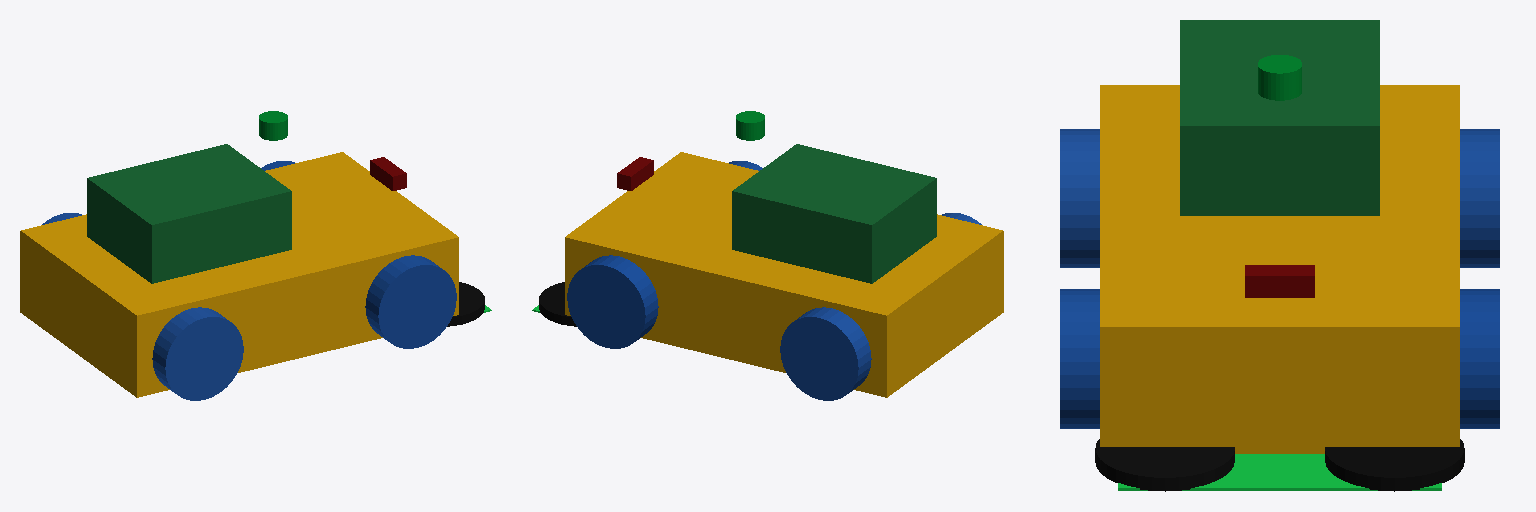
robot.urdf — sanitation_vehicle:
<?xml version="1.0" ?>
<!-- =================================================================================== -->
<!-- |    This document was autogenerated by xacro from /stage5br3/.runtime_ws/install/sanitation_vehicle_description/share/sanitation_vehicle_description/urdf/sanitation_vehicle.urdf.xacro | -->
<!-- |    EDITING THIS FILE BY HAND IS NOT RECOMMENDED                                 | -->
<!-- =================================================================================== -->
<robot name="sanitation_vehicle">
  <!-- Local primitive chassis avoids the upstream Gazebo-classic visual
       override colliding with URDF materials in Ogre2 / Gazebo Harmonic. -->
  <link name="base_footprint"/>
  <link name="base_link">
    <visual>
      <geometry>
        <box size="1.15 0.72 0.28"/>
      </geometry>
      <material name="sanitation_chassis_yellow">
        <color rgba="0.84 0.63 0.05 1.0"/>
      </material>
    </visual>
    <collision>
      <geometry>
        <box size="1.15 0.72 0.28"/>
      </geometry>
    </collision>
    <inertial>
      <mass value="80.0"/>
      <inertia ixx="3.978666666666667" ixy="0" ixz="0" iyy="9.339333333333332" iyz="0" izz="12.272666666666666"/>
    </inertial>
  </link>
  <joint name="base_to_footprint" type="fixed">
    <parent link="base_footprint"/>
    <child link="base_link"/>
    <origin rpy="0 0 0" xyz="0 0 0.16"/>
  </joint>
  <link name="front_left_wheel_link">
    <visual>
      <origin rpy="1.5707963267948966 0 0"/>
      <geometry>
        <cylinder length="0.08" radius="0.14"/>
      </geometry>
      <material name="front_left_wheel_material">
        <color rgba="0.12 0.32 0.62 1.0"/>
      </material>
    </visual>
    <collision>
      <origin rpy="1.5707963267948966 0 0"/>
      <geometry>
        <cylinder length="0.08" radius="0.14"/>
      </geometry>
    </collision>
    <inertial>
      <mass value="3.0"/>
      <inertia ixx="0.016300000000000002" ixy="0" ixz="0" iyy="0.029400000000000003" iyz="0" izz="0.016300000000000002"/>
    </inertial>
  </link>
  <joint name="front_left_wheel_joint" type="continuous">
    <axis xyz="0 1 0"/>
    <parent link="base_link"/>
    <child link="front_left_wheel_link"/>
    <origin rpy="0 0 0" xyz="0.38 0.4 -0.02"/>
  </joint>
  <gazebo reference="front_left_wheel_link">
    <mu1>1.0</mu1>
    <mu2>1.0</mu2>
  </gazebo>
  <link name="front_right_wheel_link">
    <visual>
      <origin rpy="1.5707963267948966 0 0"/>
      <geometry>
        <cylinder length="0.08" radius="0.14"/>
      </geometry>
      <material name="front_right_wheel_material">
        <color rgba="0.13 0.33 0.63 1.0"/>
      </material>
    </visual>
    <collision>
      <origin rpy="1.5707963267948966 0 0"/>
      <geometry>
        <cylinder length="0.08" radius="0.14"/>
      </geometry>
    </collision>
    <inertial>
      <mass value="3.0"/>
      <inertia ixx="0.016300000000000002" ixy="0" ixz="0" iyy="0.029400000000000003" iyz="0" izz="0.016300000000000002"/>
    </inertial>
  </link>
  <joint name="front_right_wheel_joint" type="continuous">
    <axis xyz="0 1 0"/>
    <parent link="base_link"/>
    <child link="front_right_wheel_link"/>
    <origin rpy="0 0 0" xyz="0.38 -0.4 -0.02"/>
  </joint>
  <gazebo reference="front_right_wheel_link">
    <mu1>1.0</mu1>
    <mu2>1.0</mu2>
  </gazebo>
  <link name="rear_left_wheel_link">
    <visual>
      <origin rpy="1.5707963267948966 0 0"/>
      <geometry>
        <cylinder length="0.08" radius="0.14"/>
      </geometry>
      <material name="rear_left_wheel_material">
        <color rgba="0.14 0.34 0.64 1.0"/>
      </material>
    </visual>
    <collision>
      <origin rpy="1.5707963267948966 0 0"/>
      <geometry>
        <cylinder length="0.08" radius="0.14"/>
      </geometry>
    </collision>
    <inertial>
      <mass value="3.0"/>
      <inertia ixx="0.016300000000000002" ixy="0" ixz="0" iyy="0.029400000000000003" iyz="0" izz="0.016300000000000002"/>
    </inertial>
  </link>
  <joint name="rear_left_wheel_joint" type="continuous">
    <axis xyz="0 1 0"/>
    <parent link="base_link"/>
    <child link="rear_left_wheel_link"/>
    <origin rpy="0 0 0" xyz="-0.38 0.4 -0.02"/>
  </joint>
  <gazebo reference="rear_left_wheel_link">
    <mu1>1.0</mu1>
    <mu2>1.0</mu2>
  </gazebo>
  <link name="rear_right_wheel_link">
    <visual>
      <origin rpy="1.5707963267948966 0 0"/>
      <geometry>
        <cylinder length="0.08" radius="0.14"/>
      </geometry>
      <material name="rear_right_wheel_material">
        <color rgba="0.15 0.35 0.65 1.0"/>
      </material>
    </visual>
    <collision>
      <origin rpy="1.5707963267948966 0 0"/>
      <geometry>
        <cylinder length="0.08" radius="0.14"/>
      </geometry>
    </collision>
    <inertial>
      <mass value="3.0"/>
      <inertia ixx="0.016300000000000002" ixy="0" ixz="0" iyy="0.029400000000000003" iyz="0" izz="0.016300000000000002"/>
    </inertial>
  </link>
  <joint name="rear_right_wheel_joint" type="continuous">
    <axis xyz="0 1 0"/>
    <parent link="base_link"/>
    <child link="rear_right_wheel_link"/>
    <origin rpy="0 0 0" xyz="-0.38 -0.4 -0.02"/>
  </joint>
  <gazebo reference="rear_right_wheel_link">
    <mu1>1.0</mu1>
    <mu2>1.0</mu2>
  </gazebo>
  <link name="imu_link"/>
  <joint name="imu_to_base_link" type="fixed">
    <parent link="base_link"/>
    <child link="imu_link"/>
    <origin rpy="0 0 0" xyz="0 0 0"/>
  </joint>
  <gazebo>
    <plugin filename="gz-sim-imu-system" name="gz::sim::systems::Imu">
      </plugin>
  </gazebo>
  <gazebo reference="imu_link">
    <sensor name="imu_sensor" type="imu">
      <topic>imu/data</topic>
      <update_rate>50</update_rate>
      <always_on>true</always_on>
      <visualize>true</visualize>
    </sensor>
  </gazebo>
  <link name="laser">
    <visual>
      <geometry>
        <cylinder length="0.06" radius="0.045"/>
      </geometry>
      <material name="sanitation_lidar_green">
        <color rgba="0.02 0.55 0.20 1.0"/>
      </material>
    </visual>
    <collision>
      <geometry>
        <cylinder length="0.06" radius="0.045"/>
      </geometry>
    </collision>
    <inertial>
      <mass value="0.1"/>
      <inertia ixx="0.00006" ixy="0" ixz="0" iyy="0.00006" iyz="0" izz="0.00010"/>
    </inertial>
  </link>
  <joint name="laser_to_base_link" type="fixed">
    <parent link="base_link"/>
    <child link="laser"/>
    <origin rpy="0 0 0" xyz="0.12 0 0.48"/>
  </joint>
  <gazebo reference="laser">
    <sensor name="sanitation_gpu_lidar" type="gpu_lidar">
      <topic>scan</topic>
      <update_rate>10</update_rate>
      <always_on>true</always_on>
      <visualize>true</visualize>
      <lidar>
        <scan>
          <horizontal>
            <samples>360</samples>
            <resolution>1</resolution>
            <min_angle>-3.1416</min_angle>
            <max_angle>3.1416</max_angle>
          </horizontal>
          <vertical>
            <samples>1</samples>
            <resolution>1</resolution>
            <min_angle>0.0</min_angle>
            <max_angle>0.0</max_angle>
          </vertical>
        </scan>
        <range>
          <min>0.08</min>
          <max>12.0</max>
          <resolution>0.01</resolution>
        </range>
      </lidar>
    </sensor>
  </gazebo>
  <link name="camera_link">
    <visual>
      <geometry>
        <box size="0.05 0.14 0.05"/>
      </geometry>
      <material name="sanitation_camera_red">
        <color rgba="0.45 0.05 0.05 1.0"/>
      </material>
    </visual>
    <collision>
      <geometry>
        <box size="0.05 0.14 0.05"/>
      </geometry>
    </collision>
    <inertial>
      <mass value="0.135"/>
      <inertia ixx="0.00025" ixy="0" ixz="0" iyy="0.00006" iyz="0" izz="0.00025"/>
    </inertial>
  </link>
  <joint name="camera_to_base_link" type="fixed">
    <parent link="base_link"/>
    <child link="camera_link"/>
    <origin rpy="0 0 0" xyz="0.53 0 0.22"/>
  </joint>
  <link name="camera_depth_link"/>
  <joint name="camera_depth_joint" type="fixed">
    <parent link="camera_link"/>
    <child link="camera_depth_link"/>
    <origin rpy="0 0 0" xyz="0 0 0"/>
  </joint>
  <gazebo reference="camera_link">
    <sensor name="sanitation_rgbd_camera" type="rgbd_camera">
      <topic>camera</topic>
      <update_rate>15</update_rate>
      <always_on>true</always_on>
      <visualize>true</visualize>
      <camera>
        <optical_frame_id>camera_depth_link</optical_frame_id>
        <horizontal_fov>1.50098</horizontal_fov>
        <image>
          <width>640</width>
          <height>480</height>
          <format>R8G8B8</format>
        </image>
        <clip>
          <near>0.3</near>
          <far>100</far>
        </clip>
      </camera>
    </sensor>
  </gazebo>
  <gazebo>
    <plugin filename="gz-sim-diff-drive-system" name="gz::sim::systems::DiffDrive">
      <topic>cmd_vel</topic>
      <!-- <frame_id>odom</frame_id> -->
      <child_frame_id>base_footprint</child_frame_id>
      <odom_topic>odom/unfiltered</odom_topic>
      <!-- <tf_topic>/tf</tf_topic> -->
      <left_joint>front_left_wheel_joint</left_joint>
      <right_joint>front_right_wheel_joint</right_joint>
      <left_joint>rear_left_wheel_joint</left_joint>
      <right_joint>rear_right_wheel_joint</right_joint>
      <wheel_separation>0.8</wheel_separation>
      <wheel_radius>0.14</wheel_radius>
      <odom_publish_frequency>50</odom_publish_frequency>
    </plugin>
  </gazebo>
  <gazebo>
    <plugin filename="gz-sim-joint-state-publisher-system" name="gz::sim::systems::JointStatePublisher">
      <topic>joint_states</topic>
      <update_rate>50</update_rate>
      <joint_name>front_left_wheel_joint</joint_name>
      <joint_name>front_right_wheel_joint</joint_name>
      <joint_name>rear_left_wheel_joint</joint_name>
      <joint_name>rear_right_wheel_joint</joint_name>
    </plugin>
  </gazebo>
  <!-- Model-scoped Gazebo truth. Unlike the world Pose_V bridge, this topic
       has one producer bound to this model and preserves an explicit frame
       identity all the way into ROS. It is evaluation-only and must never be
       fused into the realistic odometry / localization lane. -->
  <gazebo>
    <plugin filename="gz-sim-odometry-publisher-system" name="gz::sim::systems::OdometryPublisher">
      <odom_publish_frequency>50</odom_publish_frequency>
      <odom_topic>/ground_truth/model_odom_raw</odom_topic>
      <odom_frame>world</odom_frame>
      <robot_base_frame>sanitation_vehicle/base_footprint</robot_base_frame>
      <dimensions>2</dimensions>
    </plugin>
  </gazebo>
  <!-- 40 L bin: 0.50 * 0.40 * 0.20 = 0.040 m^3. -->
  <link name="dust_bin_link">
    <visual>
      <origin xyz="0 0 0"/>
      <geometry>
        <box size="0.50 0.40 0.20"/>
      </geometry>
      <material name="bin_green">
        <color rgba="0.12 0.42 0.22 1.0"/>
      </material>
    </visual>
    <collision>
      <origin xyz="0 0 0"/>
      <geometry>
        <box size="0.50 0.40 0.20"/>
      </geometry>
    </collision>
    <inertial>
      <mass value="8.0"/>
      <inertia ixx="0.133" ixy="0" ixz="0" iyy="0.193" iyz="0" izz="0.273"/>
    </inertial>
  </link>
  <joint name="dust_bin_joint" type="fixed">
    <parent link="base_link"/>
    <child link="dust_bin_link"/>
    <origin rpy="0 0 0" xyz="-0.18 0 0.25"/>
  </joint>
  <!-- Side brushes are fixed visual/collision placeholders in Stage 2.
       Codex should add controllable joints/cleaning semantics later. -->
  <link name="left_brush_link">
    <visual>
      <geometry>
        <cylinder length="0.03" radius="0.14"/>
      </geometry>
      <material name="left_brush_dark">
        <color rgba="0.08 0.08 0.08 1.0"/>
      </material>
    </visual>
    <collision>
      <geometry>
        <cylinder length="0.03" radius="0.14"/>
      </geometry>
    </collision>
    <inertial>
      <mass value="1.0"/>
      <inertia ixx="0.00495" ixy="0" ixz="0" iyy="0.00495" iyz="0" izz="0.0098"/>
    </inertial>
  </link>
  <joint name="left_brush_joint" type="fixed">
    <parent link="base_link"/>
    <child link="left_brush_link"/>
    <origin rpy="0 0 0" xyz="0.58 0.23 -0.14"/>
  </joint>
  <link name="right_brush_link">
    <visual>
      <geometry>
        <cylinder length="0.03" radius="0.14"/>
      </geometry>
      <material name="right_brush_dark">
        <color rgba="0.09 0.09 0.09 1.0"/>
      </material>
    </visual>
    <collision>
      <geometry>
        <cylinder length="0.03" radius="0.14"/>
      </geometry>
    </collision>
    <inertial>
      <mass value="1.0"/>
      <inertia ixx="0.00495" ixy="0" ixz="0" iyy="0.00495" iyz="0" izz="0.0098"/>
    </inertial>
  </link>
  <joint name="right_brush_joint" type="fixed">
    <parent link="base_link"/>
    <child link="right_brush_link"/>
    <origin rpy="0 0 0" xyz="0.58 -0.23 -0.14"/>
  </joint>
  <!-- Non-colliding visualization of the nominal cleaning footprint. -->
  <link name="cleaning_footprint_link">
    <visual>
      <origin xyz="0 0 0"/>
      <geometry>
        <box size="0.32 0.65 0.005"/>
      </geometry>
      <material name="cleaning_zone">
        <color rgba="0.1 0.8 0.3 0.18"/>
      </material>
    </visual>
  </link>
  <joint name="cleaning_footprint_joint" type="fixed">
    <parent link="base_link"/>
    <child link="cleaning_footprint_link"/>
    <origin rpy="0 0 0" xyz="0.55 0 -0.155"/>
  </joint>
  <!-- Mounting point reserved for a future manipulator. -->
  <link name="arm_mount_link"/>
  <joint name="arm_mount_joint" type="fixed">
    <parent link="base_link"/>
    <child link="arm_mount_link"/>
    <origin rpy="0 0 0" xyz="0.10 0 0.32"/>
  </joint>
</robot>

--- Render facts (derived) ---
Views: 3 orthographic renders of the robot side by side, from view 1: azimuth 30°, elevation 25°; view 2: azimuth 150°, elevation 25°; view 3: azimuth 270°, elevation 25°.
Robot: sanitation_vehicle — 15 links, 14 joints (4 continuous, 10 fixed); root link base_footprint; default pose: all joints at 0.
Links seen in each view (by area): view 1: base_link, dust_bin_link, front_right_wheel_link, rear_right_wheel_link, right_brush_link, camera_link, laser; view 2: base_link, dust_bin_link, front_left_wheel_link, rear_left_wheel_link, left_brush_link, camera_link, laser; view 3: base_link, dust_bin_link, front_left_wheel_link, front_right_wheel_link, rear_left_wheel_link, rear_right_wheel_link, left_brush_link, right_brush_link, cleaning_footprint_link, camera_link, laser.
Boxes of the visible links, x1,y1,x2,y2 form: base_link: (20, 152, 458, 397); dust_bin_link: (87, 144, 291, 283); front_right_wheel_link: (365, 255, 456, 348); rear_right_wheel_link: (152, 307, 243, 400); right_brush_link: (447, 282, 484, 326); camera_link: (370, 157, 406, 190); laser: (259, 111, 287, 140); base_link: (565, 152, 1003, 397); dust_bin_link: (732, 144, 936, 283); front_left_wheel_link: (567, 255, 658, 348); rear_left_wheel_link: (780, 307, 871, 400); left_brush_link: (539, 282, 576, 326); camera_link: (617, 157, 653, 190); laser: (736, 111, 764, 140); base_link: (1100, 85, 1459, 453); dust_bin_link: (1180, 20, 1379, 215); front_left_wheel_link: (1460, 289, 1499, 428); front_right_wheel_link: (1060, 289, 1099, 428); rear_left_wheel_link: (1460, 129, 1499, 267); rear_right_wheel_link: (1060, 129, 1099, 267); left_brush_link: (1325, 439, 1464, 491); right_brush_link: (1095, 439, 1234, 491); cleaning_footprint_link: (1118, 454, 1441, 490); camera_link: (1245, 265, 1314, 297); laser: (1258, 55, 1301, 100).
Size in the robot's own frame: 1.29 by 0.88 by 0.67 metres.
Geometry: primitives only (box / cylinder / sphere), no mesh files.
